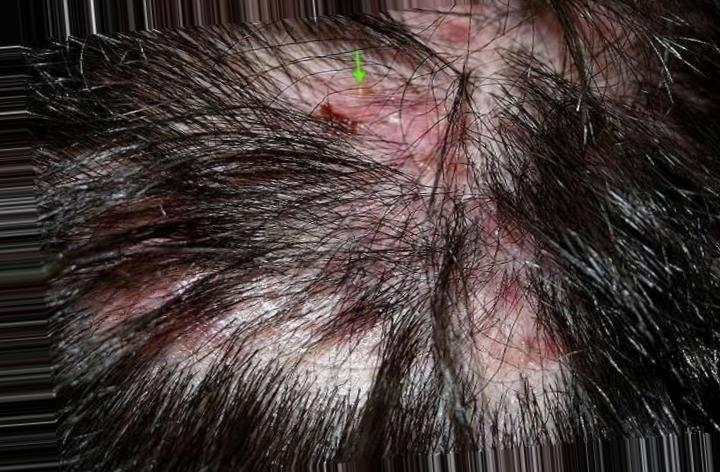Folliculitis: (276, 63, 556, 375)
